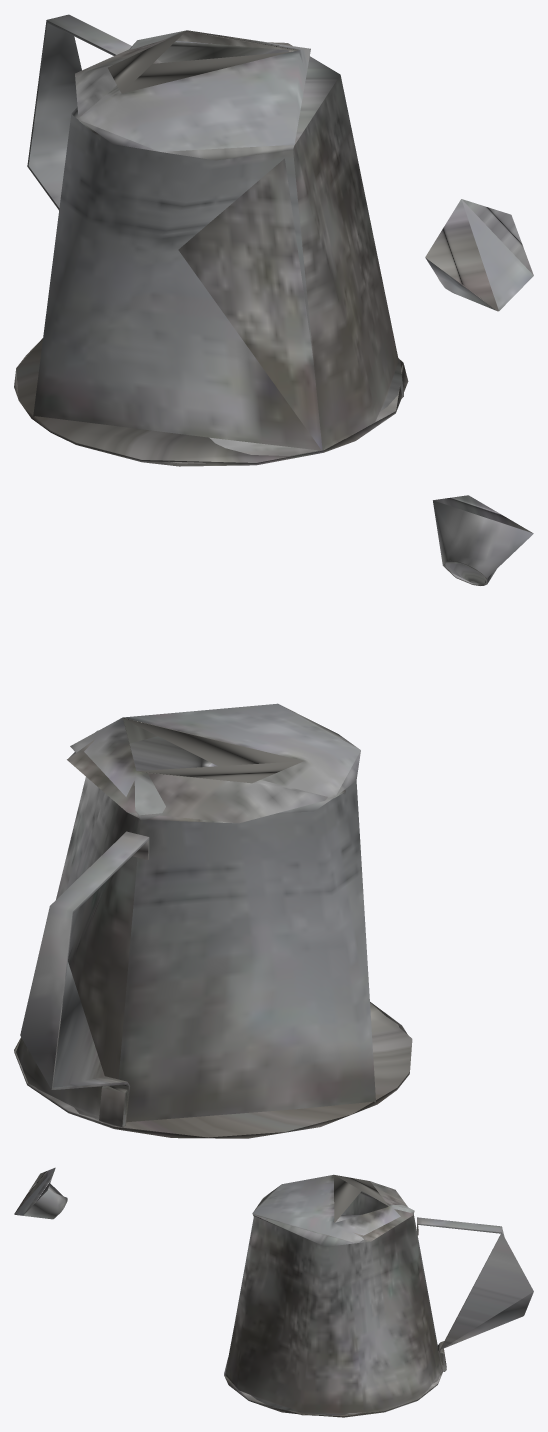
The model's file is watering-can.glb.
3 views of the same model, one above another, from view 1: azimuth 30°, elevation 25°; view 2: azimuth 150°, elevation 25°; view 3: azimuth 270°, elevation 25° (orthographic). The views are drawn at different scales.
Visible parts, largest first — view 1: watering_can_metal_01; view 2: watering_can_metal_01; view 3: watering_can_metal_01.
Part boxes in pixels (box(x1,y1,x2,y2)): watering_can_metal_01: box(14, 14, 533, 466); watering_can_metal_01: box(14, 495, 533, 1138); watering_can_metal_01: box(14, 1167, 533, 1417).
Bounding box in the file's own units: 0.1896 × 0.196 × 0.4521.
Materials: 1 (1 with a texture image).
